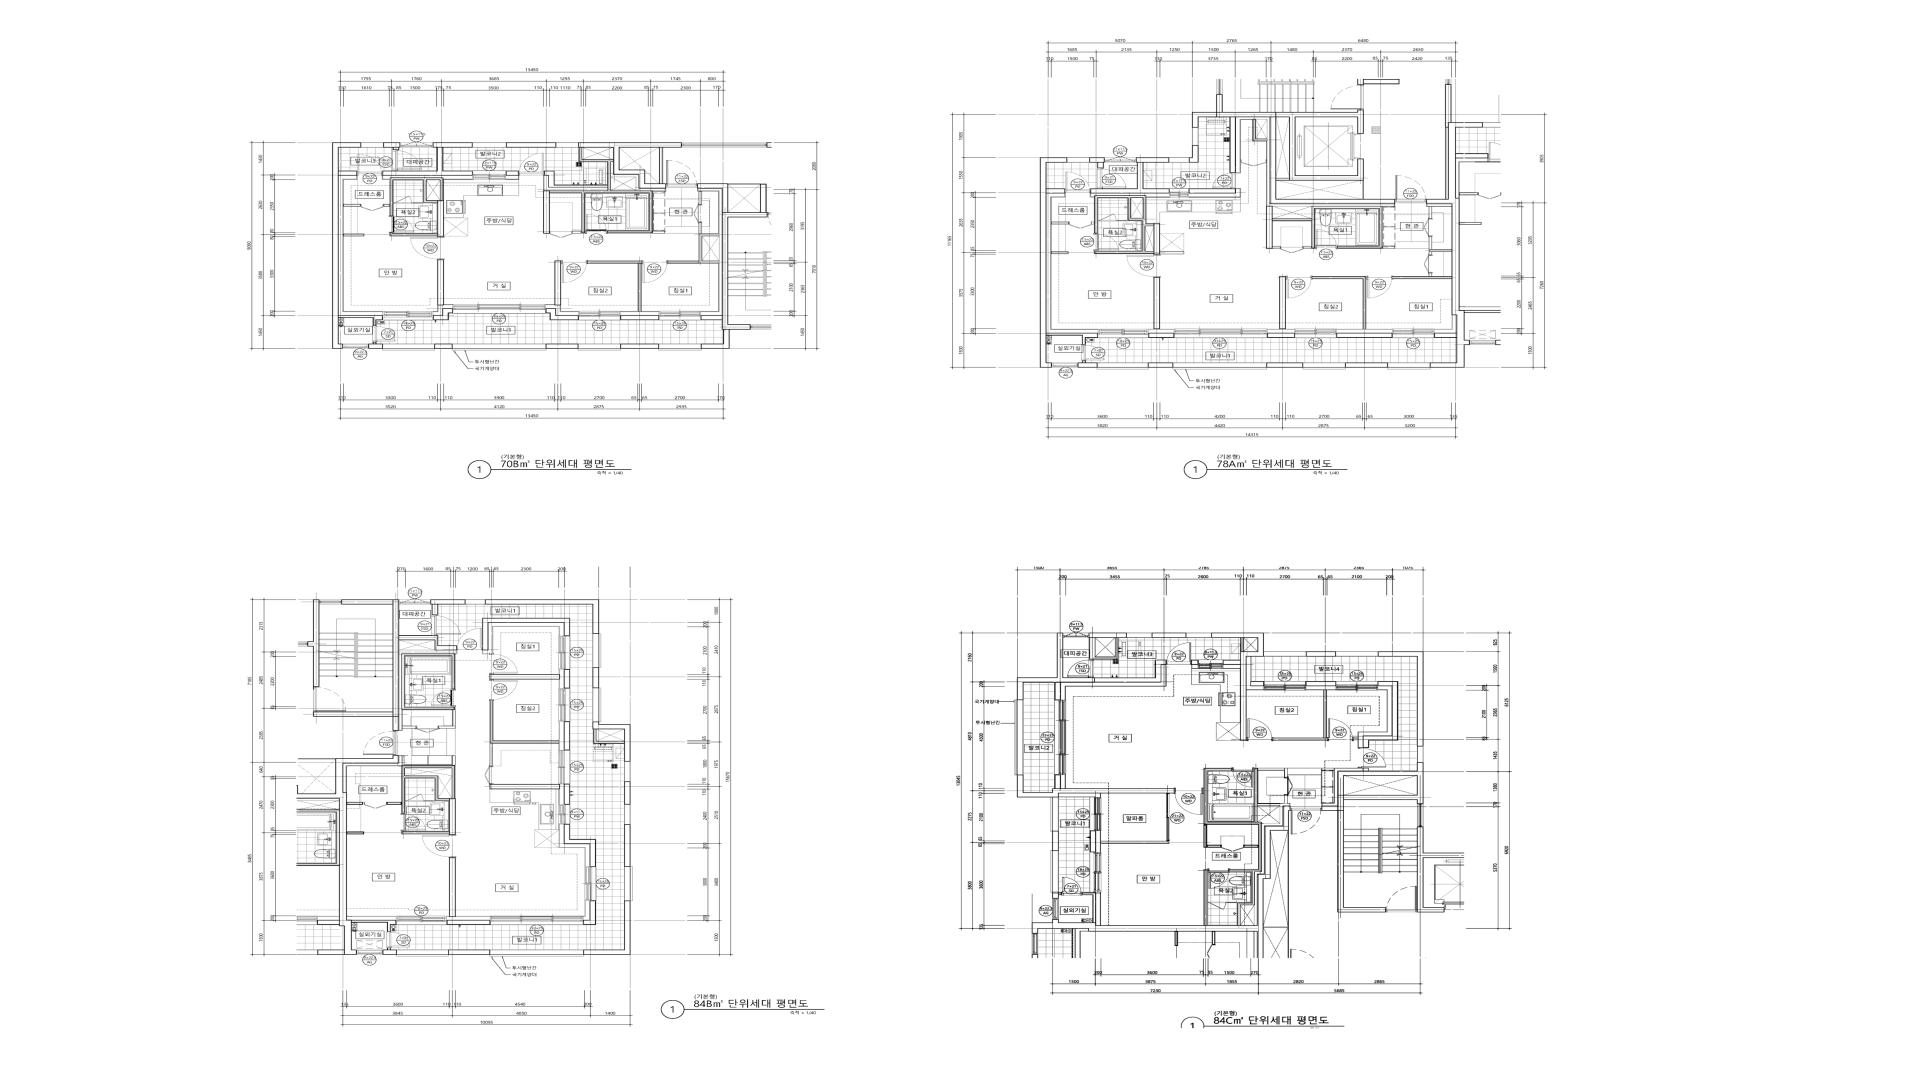door: (666, 160, 698, 187), (1291, 807, 1321, 835), (1395, 175, 1427, 202), (313, 687, 345, 712), (363, 731, 396, 756), (1331, 84, 1364, 109), (410, 236, 444, 260), (1174, 789, 1204, 815), (422, 835, 455, 857), (1127, 255, 1160, 277), (393, 150, 422, 171), (1328, 719, 1354, 741), (1246, 719, 1273, 741), (456, 628, 483, 650), (518, 153, 545, 175), (1286, 276, 1312, 298), (1064, 171, 1091, 194), (489, 679, 517, 700), (431, 616, 460, 636), (1097, 169, 1126, 189), (1166, 642, 1191, 665), (642, 261, 667, 284), (560, 261, 587, 282), (1366, 277, 1393, 298), (1358, 748, 1386, 767), (489, 654, 517, 674), (357, 154, 382, 175), (1067, 659, 1095, 678), (1207, 869, 1229, 889), (585, 214, 608, 233), (1315, 229, 1337, 249), (402, 814, 426, 832), (1095, 233, 1118, 252), (1233, 767, 1254, 787), (431, 690, 455, 707), (390, 216, 414, 233), (1062, 877, 1083, 895), (386, 932, 409, 948), (373, 326, 396, 342), (1213, 173, 1236, 189), (1083, 344, 1105, 360), (1208, 902, 1237, 910), (1166, 794, 1170, 841), (1241, 160, 1267, 166), (484, 766, 493, 785), (1284, 777, 1292, 796), (360, 204, 384, 211), (1221, 845, 1244, 852), (364, 802, 386, 808), (550, 231, 572, 237), (1280, 247, 1303, 253), (1069, 222, 1092, 228), (405, 794, 423, 802), (694, 204, 702, 223), (1424, 255, 1432, 273), (1098, 214, 1117, 222), (417, 727, 438, 733), (1424, 219, 1432, 236), (393, 196, 411, 203)
wall: (1031, 806, 1290, 959), (1393, 84, 1465, 368), (1192, 109, 1395, 204), (313, 600, 456, 731), (1321, 762, 1424, 913), (1236, 117, 1395, 206), (1204, 767, 1290, 926), (543, 142, 682, 233), (1039, 157, 1098, 368), (339, 756, 400, 955), (698, 183, 767, 349), (332, 142, 382, 349), (1017, 633, 1166, 700), (1047, 194, 1098, 334), (339, 175, 382, 315), (1212, 633, 1265, 741), (1266, 206, 1382, 249), (386, 766, 455, 835), (489, 700, 559, 766), (400, 650, 456, 731), (1378, 651, 1424, 746), (1418, 827, 1464, 913), (1095, 195, 1160, 255), (485, 600, 599, 634), (1017, 775, 1174, 798), (390, 178, 444, 236), (698, 189, 721, 315), (401, 654, 455, 709), (382, 142, 472, 175), (1091, 157, 1170, 194), (1312, 277, 1366, 330), (1273, 690, 1328, 741), (587, 261, 642, 311), (483, 618, 570, 650), (1358, 682, 1398, 748), (483, 622, 564, 654), (584, 901, 630, 955), (1263, 831, 1288, 927), (343, 756, 402, 793), (1321, 767, 1364, 806), (611, 162, 666, 191), (592, 723, 630, 762), (1344, 775, 1418, 795), (563, 824, 596, 866), (559, 824, 589, 866), (543, 175, 608, 191), (1089, 638, 1118, 659), (313, 600, 319, 687), (430, 600, 465, 616), (1189, 189, 1241, 198), (1257, 806, 1280, 824), (702, 236, 719, 261), (1429, 236, 1452, 255), (546, 309, 579, 320), (1435, 315, 1457, 332), (489, 785, 560, 790), (489, 674, 560, 679), (1427, 204, 1452, 219), (1279, 276, 1286, 330), (382, 175, 472, 179), (546, 305, 579, 315), (1154, 277, 1160, 330), (438, 709, 455, 729), (583, 901, 596, 926), (1253, 119, 1267, 141), (450, 857, 455, 916), (1091, 194, 1170, 198), (438, 260, 444, 306), (554, 261, 560, 306), (426, 181, 440, 200), (624, 824, 630, 866), (506, 142, 556, 148), (1089, 831, 1101, 852), (1189, 189, 1236, 194), (1305, 682, 1336, 690), (433, 309, 452, 320), (447, 920, 491, 926), (1336, 330, 1393, 334), (1204, 869, 1208, 926), (1345, 363, 1387, 368), (1337, 334, 1393, 338), (448, 949, 489, 955), (1358, 79, 1399, 84), (620, 315, 659, 320), (433, 305, 452, 315), (621, 344, 658, 349), (1089, 633, 1126, 638), (347, 916, 396, 920), (563, 721, 570, 750), (1267, 363, 1303, 368), (1089, 157, 1105, 169), (1153, 633, 1187, 638), (1101, 841, 1170, 844), (447, 916, 491, 920), (546, 344, 578, 349), (1305, 651, 1336, 657), (1189, 145, 1199, 162), (620, 311, 659, 315), (1077, 360, 1097, 368), (559, 721, 564, 750), (624, 782, 630, 804), (1267, 332, 1295, 338), (1149, 332, 1175, 338), (592, 667, 599, 688), (384, 142, 401, 150), (583, 901, 589, 920), (563, 785, 570, 804), (1052, 831, 1059, 851), (1149, 363, 1172, 368), (563, 670, 570, 688), (368, 342, 382, 349), (1267, 330, 1295, 334), (1149, 330, 1175, 334), (434, 344, 452, 349), (382, 948, 397, 955), (659, 148, 662, 183), (1447, 128, 1448, 199), (667, 261, 699, 264), (559, 785, 563, 804), (559, 670, 563, 688), (1191, 661, 1199, 669), (1160, 252, 1184, 255), (505, 171, 518, 175), (505, 175, 518, 179), (728, 183, 761, 185), (1241, 638, 1244, 651), (1052, 893, 1059, 898), (1276, 178, 1290, 181), (1382, 247, 1395, 249), (653, 231, 665, 233), (452, 756, 455, 766), (572, 231, 582, 233), (1303, 247, 1312, 249), (1273, 247, 1280, 249), (384, 204, 390, 207), (423, 800, 434, 802), (1117, 220, 1127, 222), (1429, 273, 1432, 277), (1353, 738, 1358, 740), (1059, 893, 1062, 895), (1092, 222, 1095, 224), (411, 203, 422, 203)
window: (452, 305, 546, 314), (491, 916, 583, 926), (1055, 700, 1065, 775), (1175, 330, 1267, 338), (489, 949, 584, 956), (1172, 363, 1267, 369), (452, 344, 546, 351), (1015, 700, 1023, 775), (1089, 852, 1101, 893), (396, 916, 447, 926), (382, 311, 433, 320), (584, 866, 596, 901), (1098, 330, 1149, 338), (1089, 798, 1101, 831), (1050, 851, 1059, 893), (579, 311, 620, 320), (659, 311, 700, 320), (559, 636, 570, 670), (559, 750, 570, 785), (396, 949, 448, 956), (559, 688, 570, 721), (382, 344, 435, 351), (1097, 363, 1149, 369), (1336, 682, 1378, 690), (1263, 682, 1305, 690), (1295, 330, 1337, 338), (1393, 330, 1435, 338), (624, 866, 633, 901), (592, 688, 601, 723), (592, 634, 601, 667), (1050, 798, 1059, 831), (1387, 363, 1431, 369), (658, 344, 702, 351), (578, 344, 621, 351), (1303, 363, 1345, 369), (472, 171, 506, 179), (1199, 659, 1224, 669), (1336, 651, 1378, 657), (1263, 651, 1305, 657), (400, 141, 433, 148), (559, 804, 570, 824), (1170, 189, 1189, 198), (472, 142, 506, 148), (1063, 632, 1089, 638), (400, 599, 430, 604), (1105, 157, 1135, 162), (1418, 804, 1424, 827), (1052, 898, 1059, 919), (1126, 633, 1153, 638), (1051, 363, 1077, 368), (343, 344, 368, 349), (1187, 633, 1212, 638), (624, 804, 630, 824), (624, 762, 630, 782), (556, 142, 579, 148), (361, 142, 384, 148), (1067, 157, 1089, 162), (1192, 128, 1199, 145), (356, 951, 382, 955), (1418, 746, 1424, 762), (1170, 157, 1189, 162), (319, 600, 342, 604), (465, 600, 485, 604)
